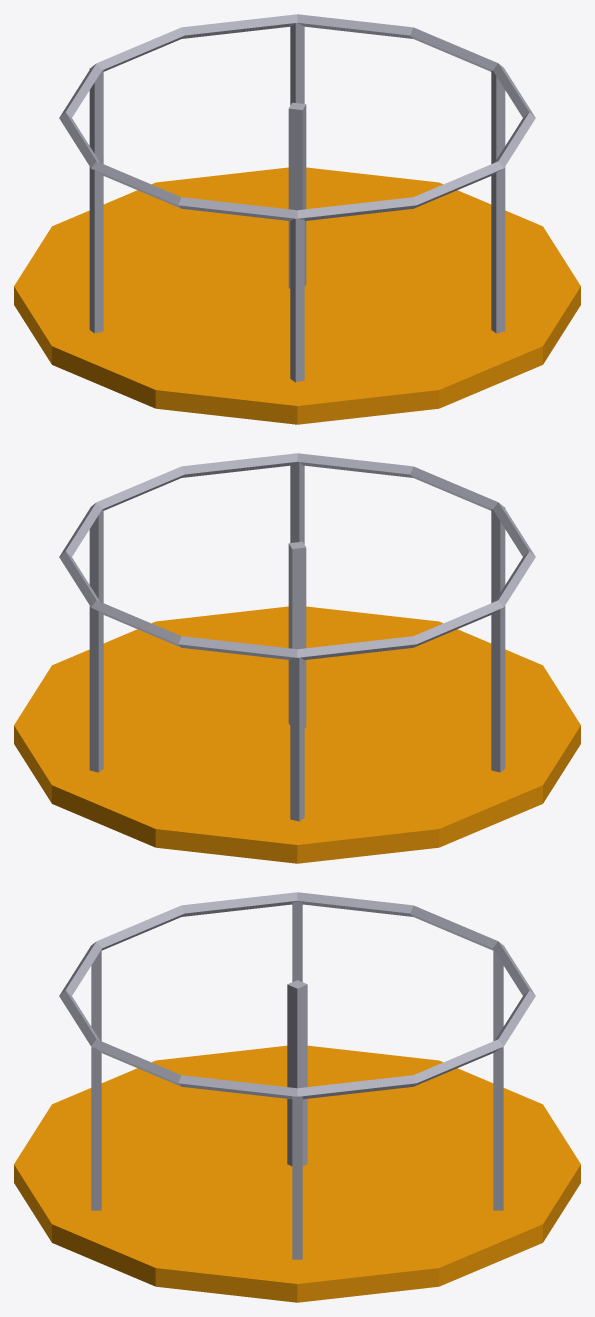
Rendered from merry_go_round.obj.
3 views of the same model, one above another, from view 1: azimuth 30°, elevation 25°; view 2: azimuth 150°, elevation 25°; view 3: azimuth 270°, elevation 25° (orthographic).
Parts seen in each view (by area): view 1: merry_go_round; view 2: merry_go_round; view 3: merry_go_round.
Part boxes in pixels (x1,y1,x2,y2): merry_go_round: [14, 14, 580, 424]; merry_go_round: [14, 453, 580, 863]; merry_go_round: [14, 892, 580, 1302].
Size of the model in its own units: 2.2 by 1.25 by 2.2.
